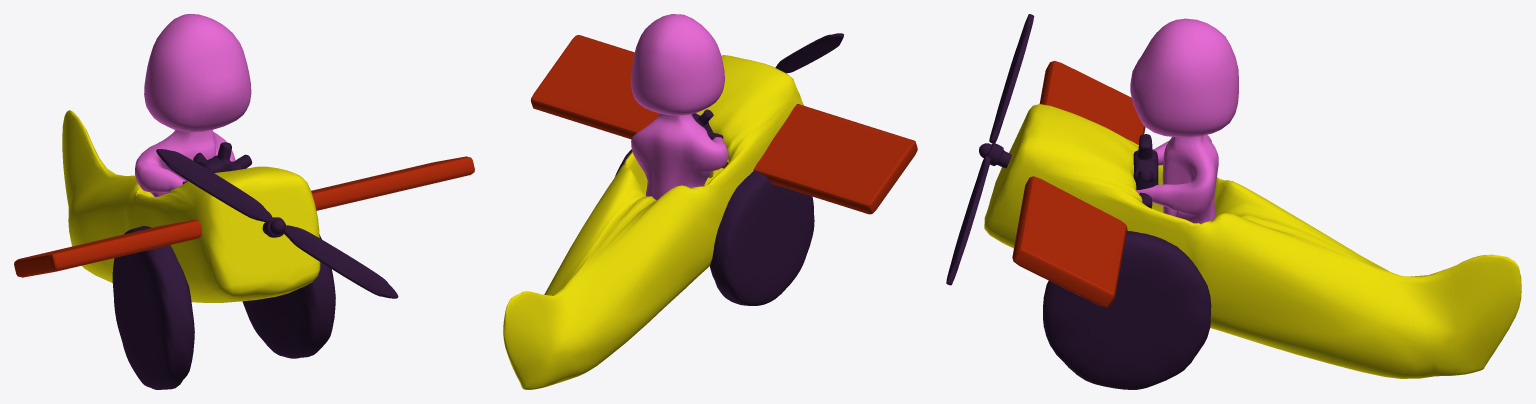
File: GummyBearPlane.fbx
3 views of the same model, side by side, from view 1: azimuth 30°, elevation 25°; view 2: azimuth 150°, elevation 25°; view 3: azimuth 270°, elevation 25° (orthographic). The views are drawn at different scales.
Parts seen in each view (by area): view 1: polySurface22, MainCharacterfromyk:polySurface4, polySurface10, pCube30, polySurface30, polySurface18, polySurface15; view 2: polySurface22, pCube30, MainCharacterfromyk:polySurface4, polySurface10, polySurface18; view 3: polySurface22, polySurface30, MainCharacterfromyk:polySurface4, pCube30, polySurface18, polySurface15.
Part boxes in pixels (x1,y1,x2,y2): polySurface22: (62,110,320,302); MainCharacterfromyk:polySurface4: (135,14,251,196); polySurface10: (112,226,194,389); pCube30: (14,156,474,277); polySurface30: (242,234,335,358); polySurface18: (156,149,398,298); polySurface15: (182,142,252,184); polySurface22: (503,55,804,389); pCube30: (530,35,917,214); MainCharacterfromyk:polySurface4: (631,14,728,200); polySurface10: (710,171,814,305); polySurface18: (775,33,843,73); polySurface22: (984,104,1521,378); polySurface30: (1043,230,1211,389); MainCharacterfromyk:polySurface4: (1130,18,1238,223); pCube30: (1012,60,1145,307); polySurface18: (946,14,1034,285); polySurface15: (1133,134,1158,208).
Size of the model in its own units: 4.56 by 3.52 by 5.4.
